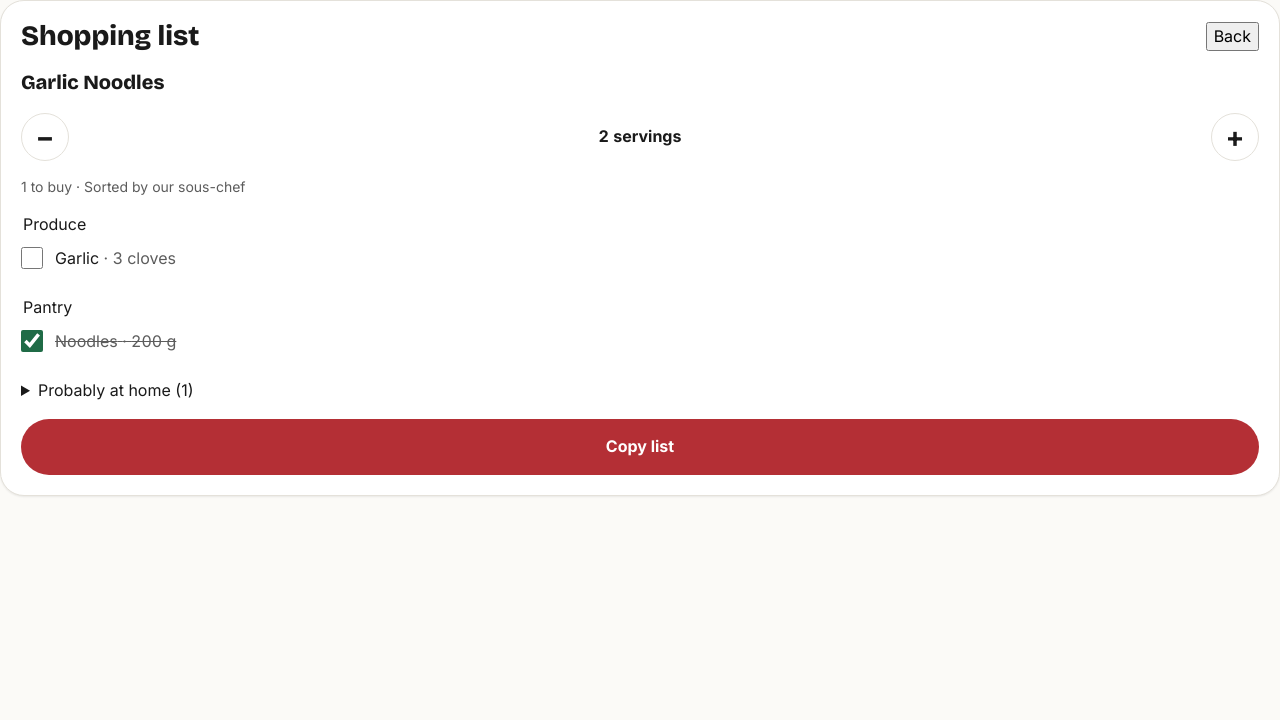
it: ShoppingListView › shows the text to copy by hand when the browser refuses both ways
This screenshot has width=1280, height=720.
Click the button "Copy list". click: (640, 447)
box: left=21, top=419, right=1259, bottom=475
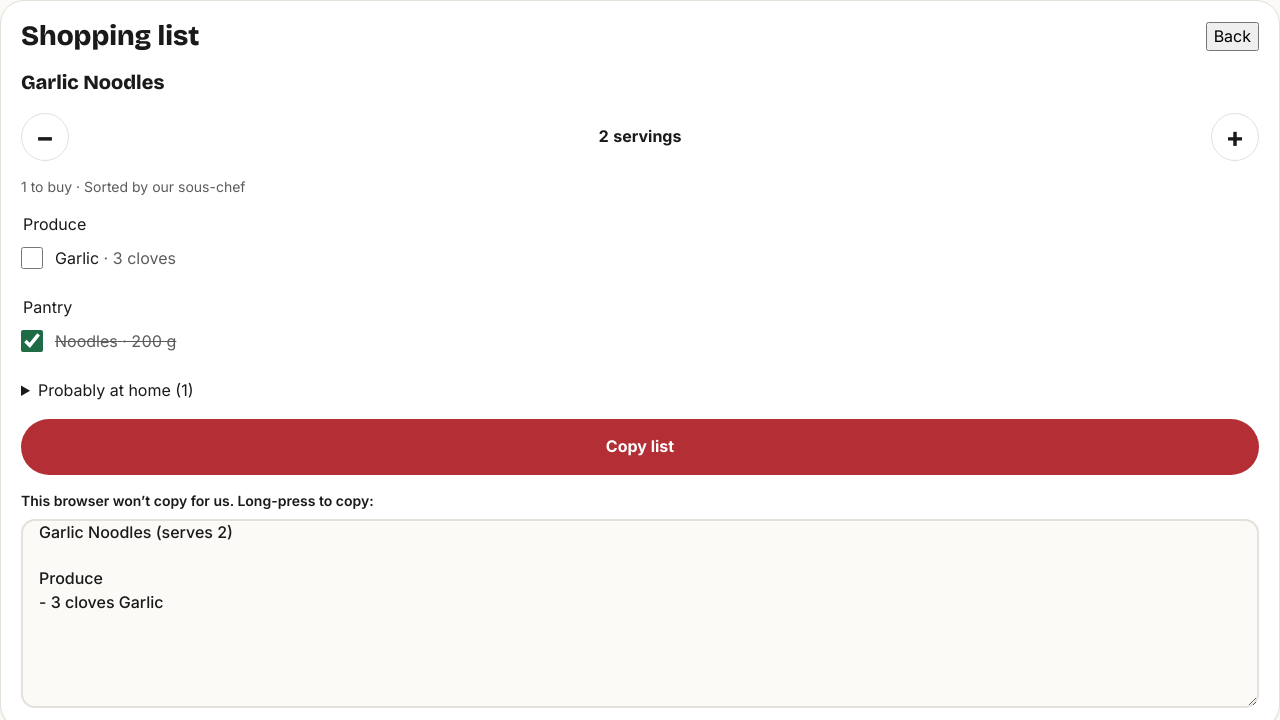
Expected: the message shows "Long-press to copy", left=21, top=492, right=374, bottom=509
